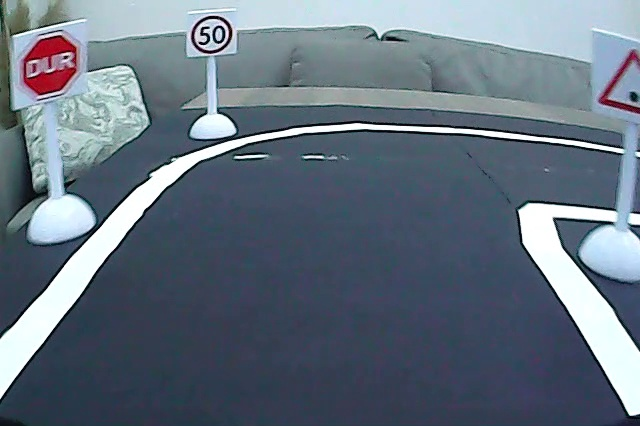green light: (597, 45, 640, 117)
speed limit 50: (190, 13, 235, 58)
stop sign: (16, 29, 85, 103)
